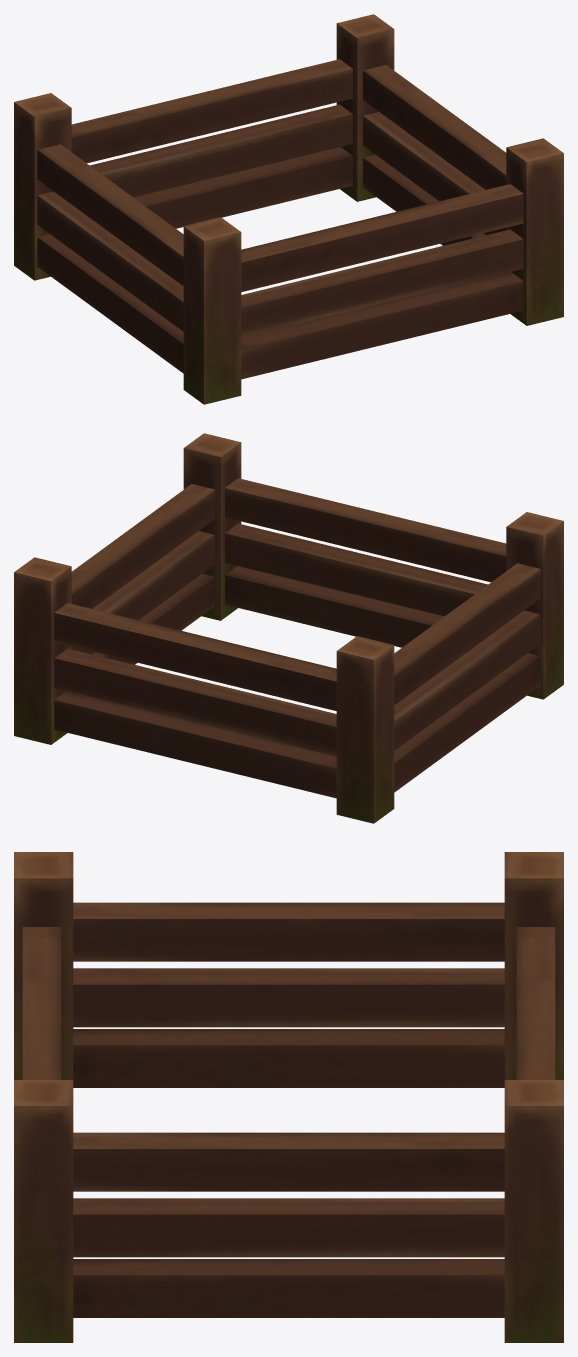
Rendered from Stage_01_01_MuJia02.FBX.
3 renders of one model, top to bottom at view 1: azimuth 30°, elevation 25°; view 2: azimuth 150°, elevation 25°; view 3: azimuth 270°, elevation 25°, orthographic. The views are drawn at different scales.
Parts seen in each view (by area): view 1: Stage_01_01_MuJia02; view 2: Stage_01_01_MuJia02; view 3: Stage_01_01_MuJia02.
Part boxes in pixels (x1,y1,x2,y2): Stage_01_01_MuJia02: [14, 14, 563, 404]; Stage_01_01_MuJia02: [14, 433, 563, 823]; Stage_01_01_MuJia02: [14, 852, 563, 1342].
Bounding box in the file's own units: 177 × 76.71 × 161.
